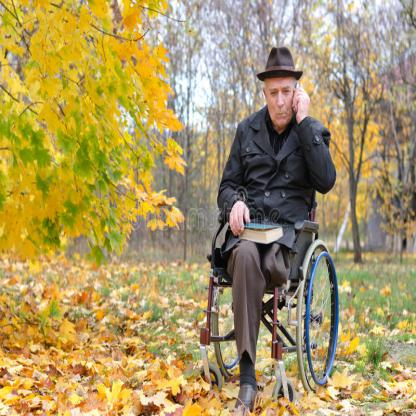wheelchair: (196, 41, 341, 414)
